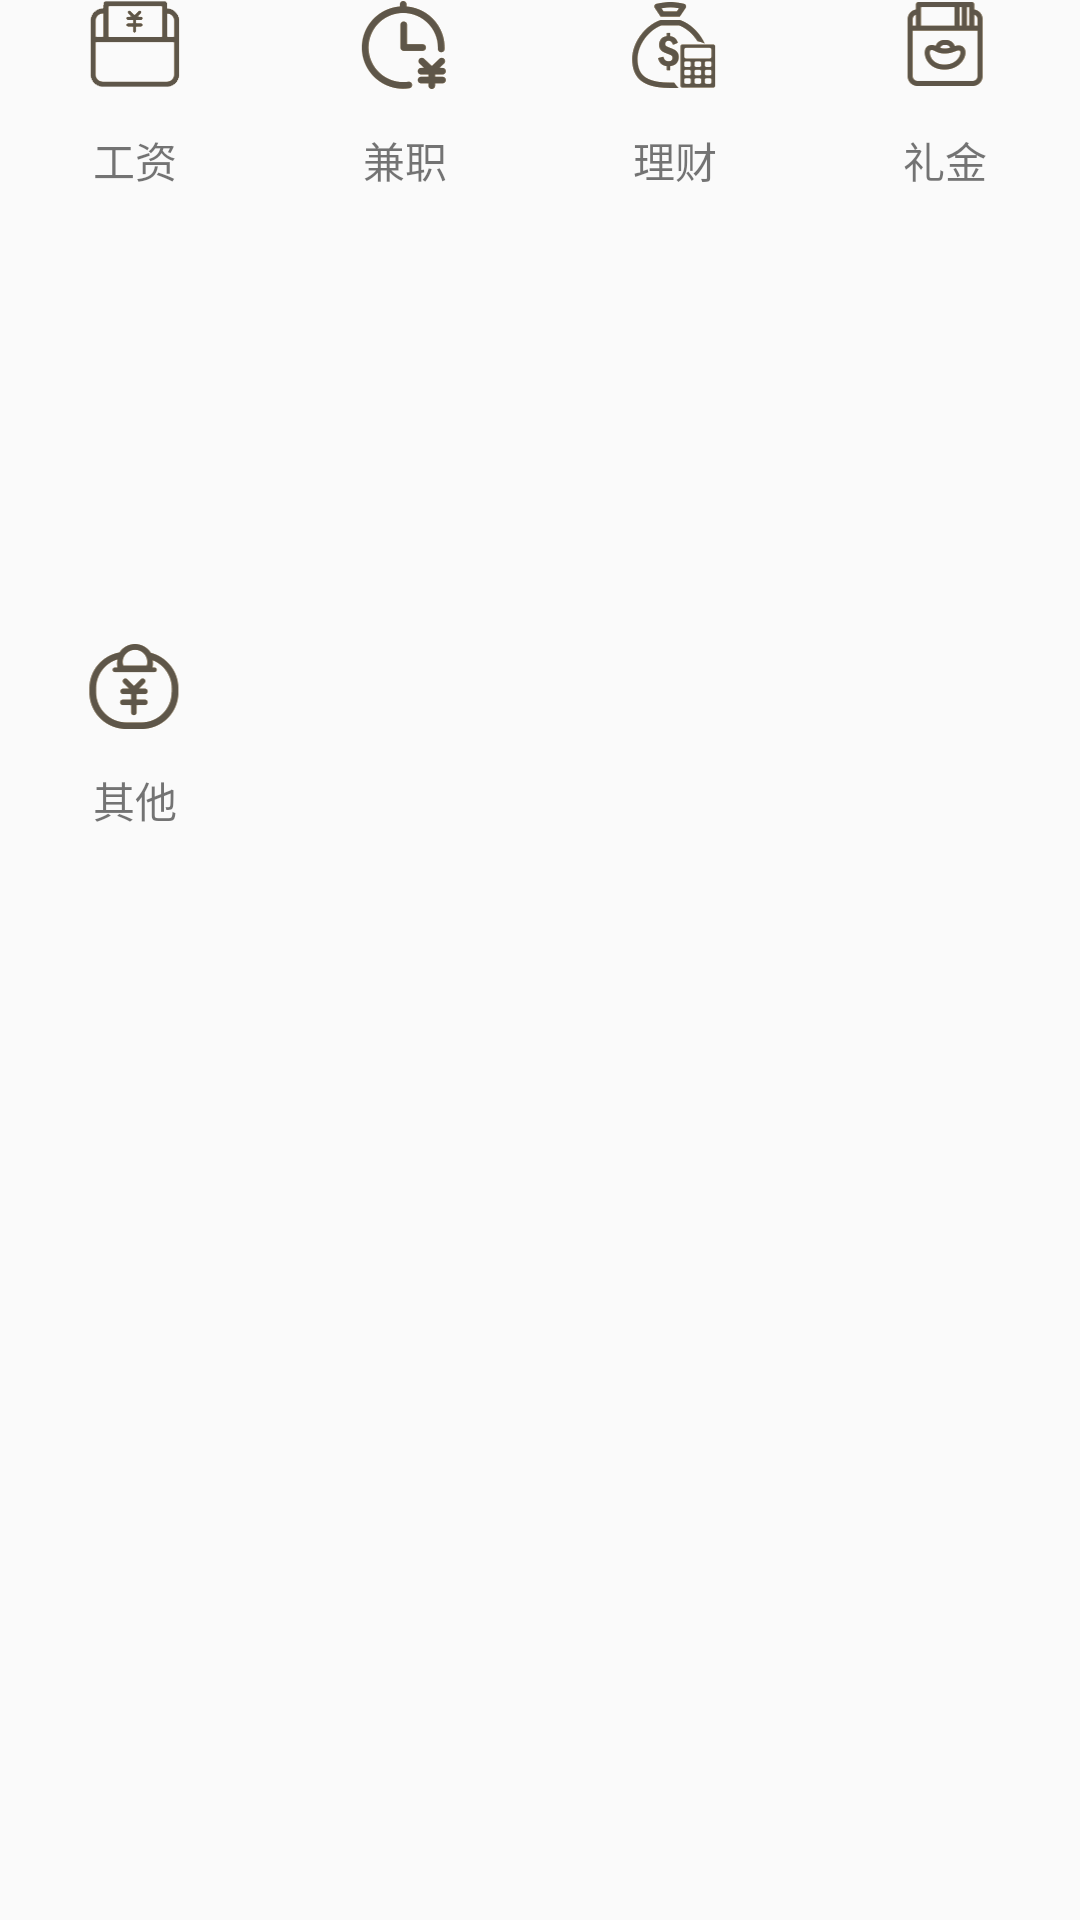

Icons on this 1080px x 1920px Android screen, each with its box as rect(x1, y1, x2, y2):
gongzi unselict: rect(90, 1, 179, 87)
jianzhi unselict: rect(361, 1, 446, 89)
licai unselict: rect(632, 2, 716, 88)
lijin unselict: rect(907, 2, 983, 86)
qitashouru unselict: rect(89, 644, 179, 729)
